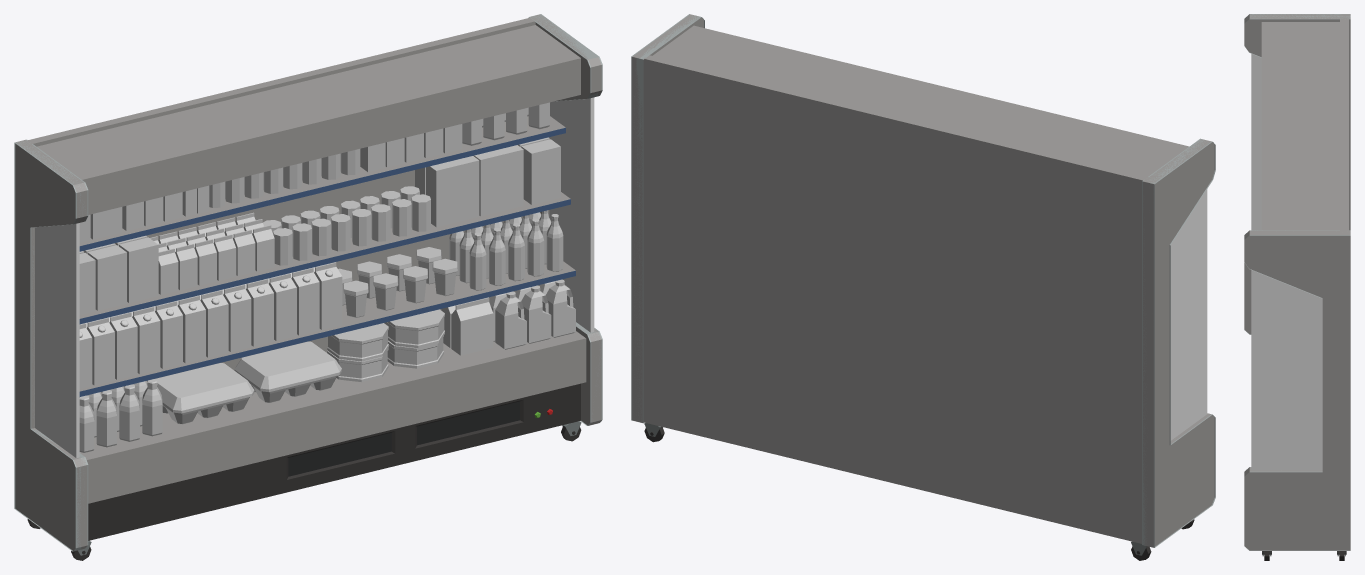
File: SM_Props_Interior_SuperMarket_Display_Large_Preset_02.fbx
3 views of the same model, side by side, from view 1: azimuth 30°, elevation 25°; view 2: azimuth 150°, elevation 25°; view 3: azimuth 270°, elevation 25° (orthographic). The views are drawn at different scales.
Parts seen in each view (by area): view 1: SM_Props_Interior_SuperMarket_Display_Large_Preset_02, SM_Props_Interior_SuperMarket_Display_Large_Preset_02_Produc; view 2: SM_Props_Interior_SuperMarket_Display_Large_Preset_02; view 3: SM_Props_Interior_SuperMarket_Display_Large_Preset_02.
Part boxes in pixels (left/top/right/bottom): SM_Props_Interior_SuperMarket_Display_Large_Preset_02: left=14, top=14, right=602, bottom=560; SM_Props_Interior_SuperMarket_Display_Large_Preset_02_Produc: left=79, top=102, right=575, bottom=452; SM_Props_Interior_SuperMarket_Display_Large_Preset_02: left=631, top=14, right=1215, bottom=560; SM_Props_Interior_SuperMarket_Display_Large_Preset_02: left=1244, top=14, right=1350, bottom=560.
Size of the model in its own units: 301 by 211 by 61.
